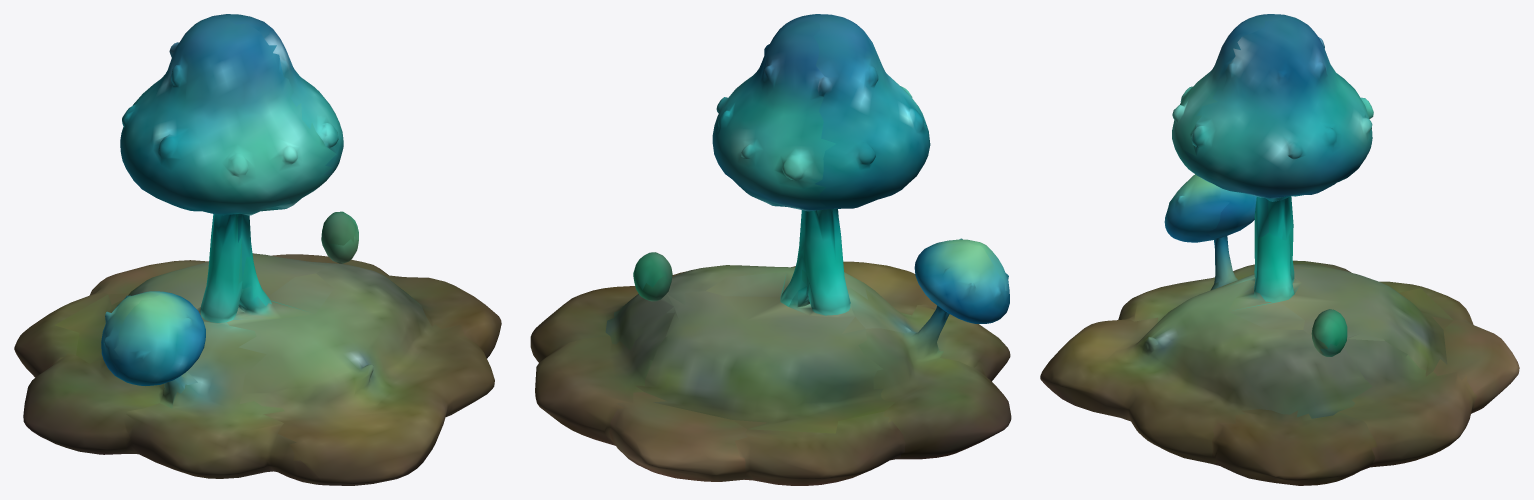
File: f07_cogumelos_brilhantes.glb
3 views of the same model, side by side, from view 1: azimuth 30°, elevation 25°; view 2: azimuth 150°, elevation 25°; view 3: azimuth 270°, elevation 25° (orthographic). The views are drawn at different scales.
Parts seen in each view (by area): view 1: f07_cogumelos_brilhantes; view 2: f07_cogumelos_brilhantes; view 3: f07_cogumelos_brilhantes.
Boxes of the visible parts, <box> form: f07_cogumelos_brilhantes: <box>14,14,501,485</box>; f07_cogumelos_brilhantes: <box>530,14,1011,485</box>; f07_cogumelos_brilhantes: <box>1040,14,1519,485</box>.
Bounding box in the file's own units: 0.6209 × 0.4935 × 0.603.
Materials: 1 (1 with a texture image).
